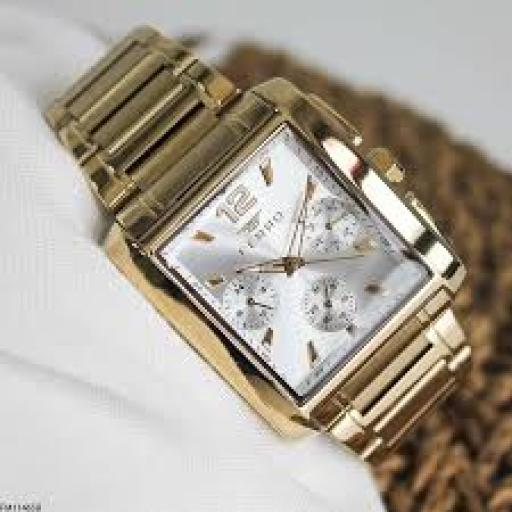KolSaati: (39, 7, 448, 442)
